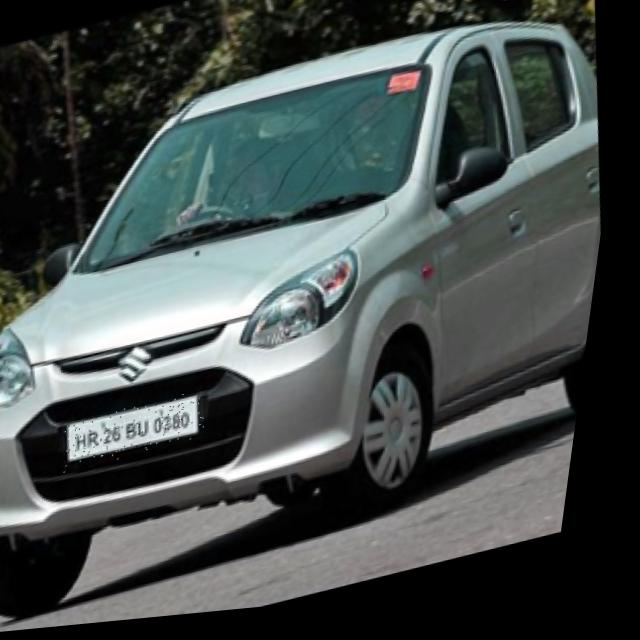license_plate: (70, 394, 222, 476)
